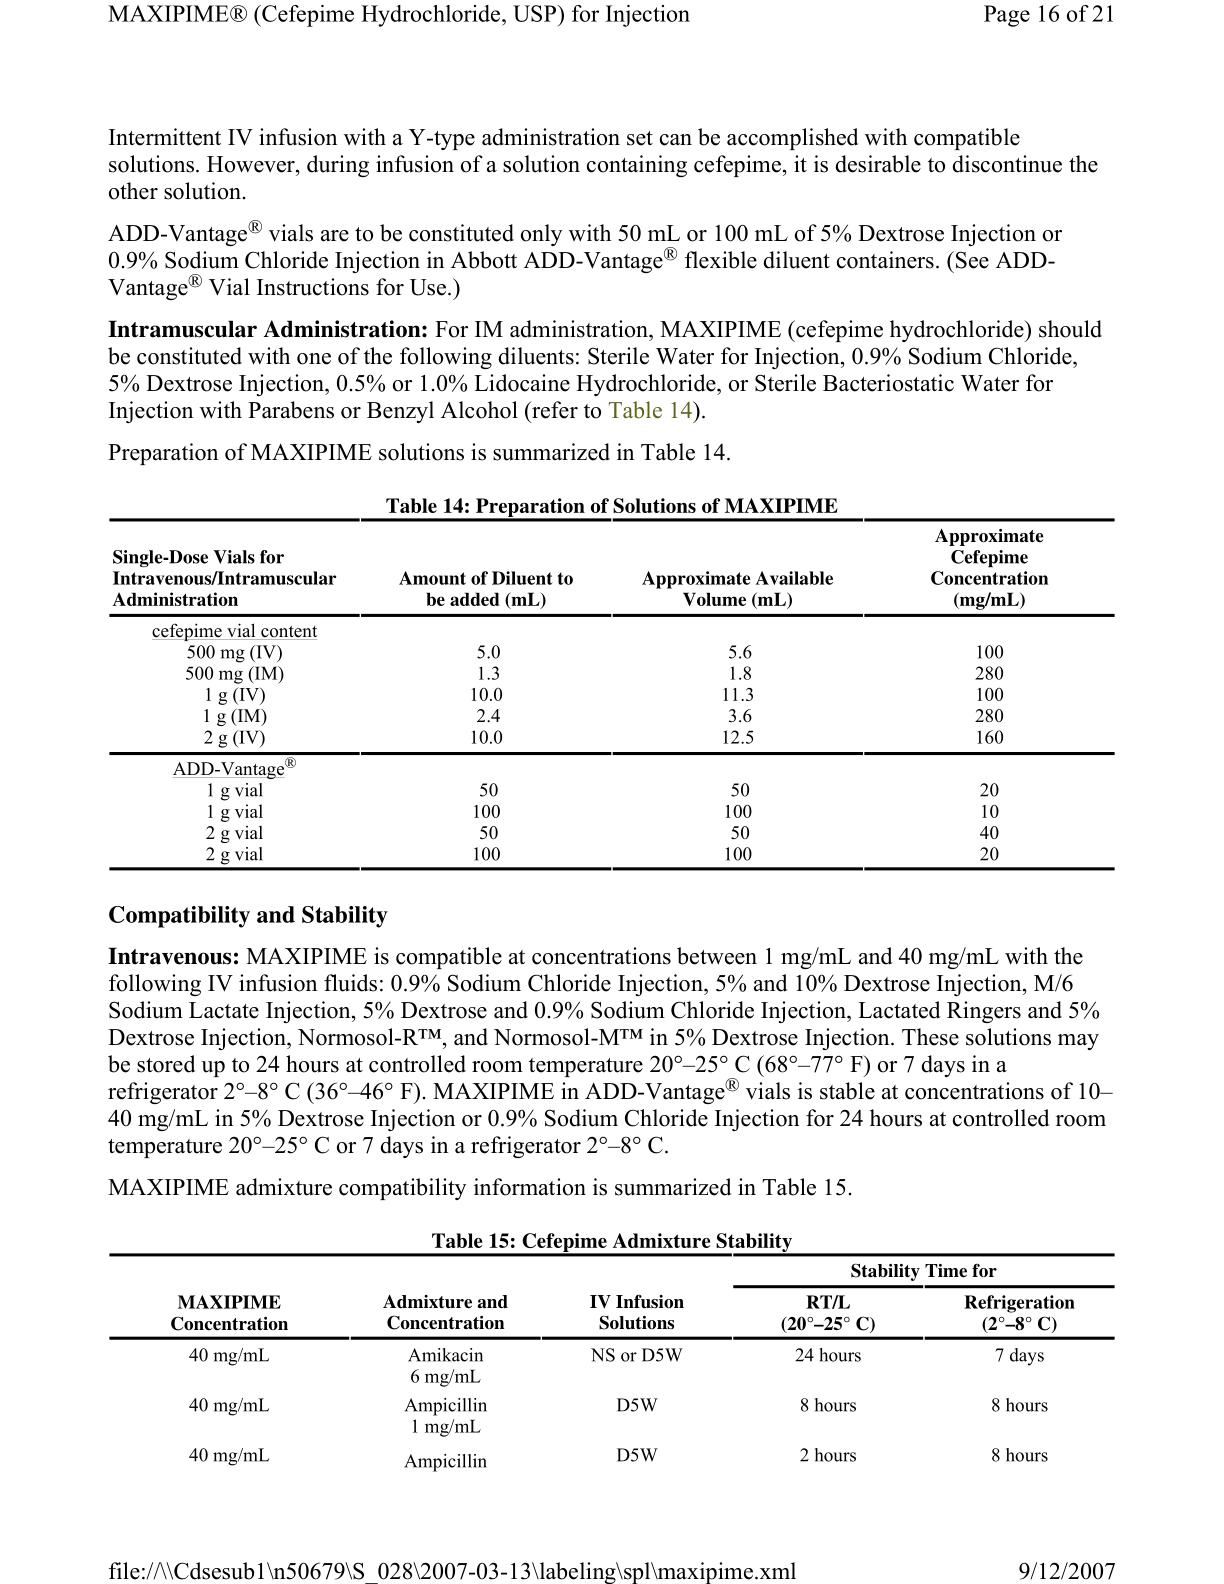partial_lined: (108, 518, 1116, 872)
partial_lined_merged_cells: (107, 1251, 1121, 1473)
